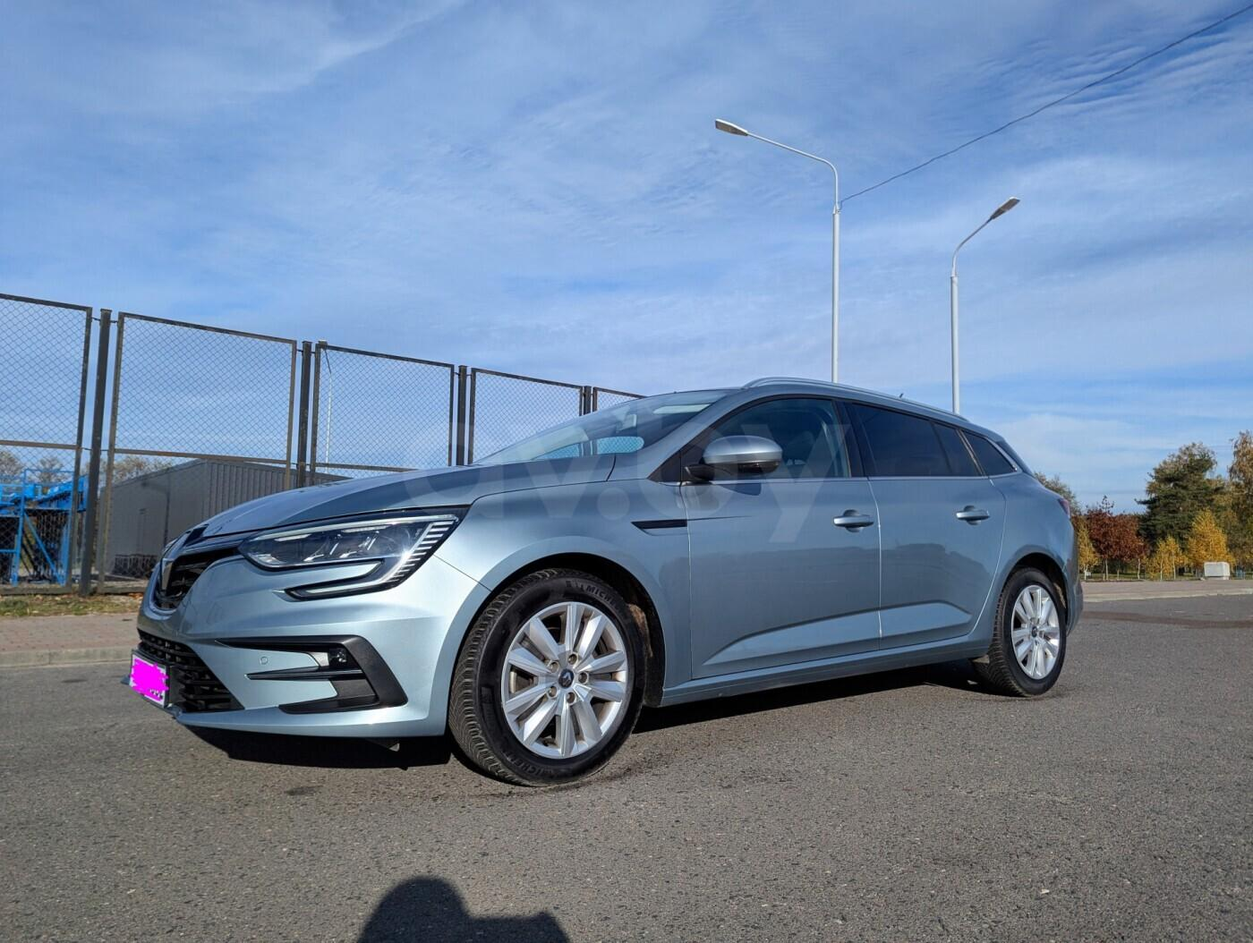Megane_2020: (134, 367, 1092, 789)
